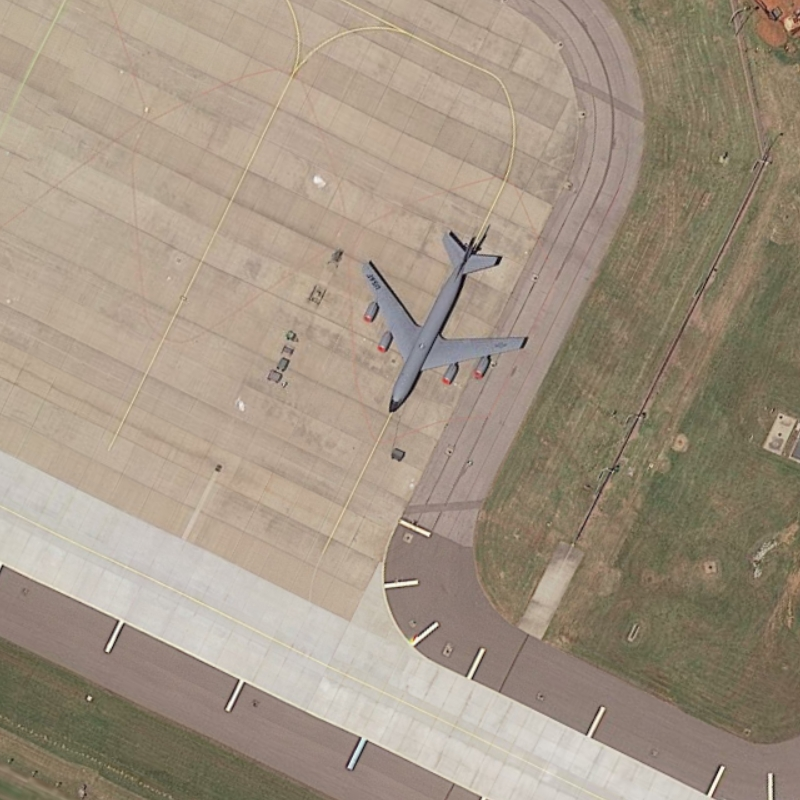A14: (351, 222, 539, 422)
